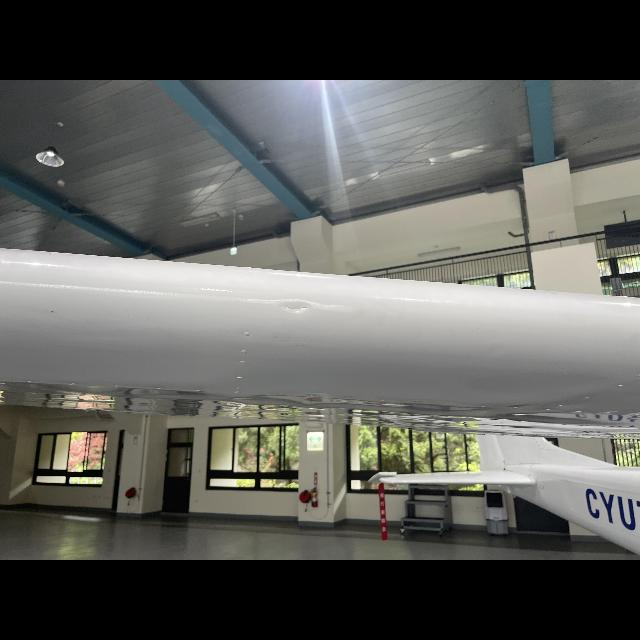dent: (268, 296, 329, 318)
